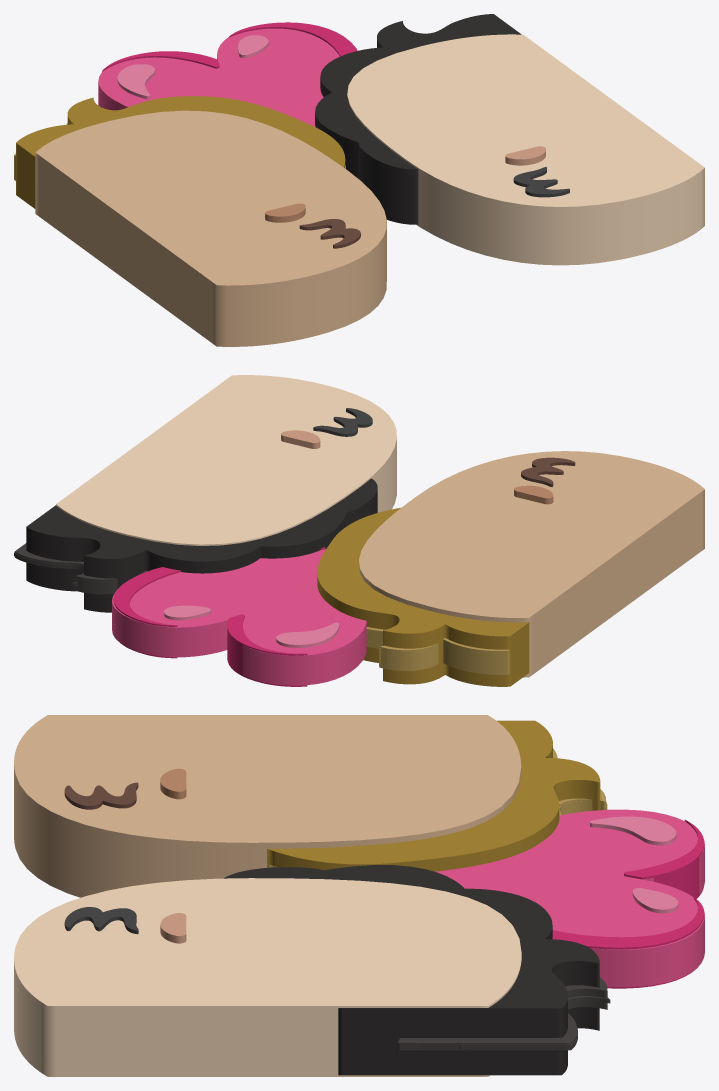
The model's file is emoji_u1f9d1_1f3fc_200d_2764_200d_1f48b_200d_1f9d1_1f3fb.glb.
3 views of the same model, one above another, from view 1: azimuth 30°, elevation 25°; view 2: azimuth 150°, elevation 25°; view 3: azimuth 270°, elevation 25° (orthographic). The views are drawn at different scales.
Visible parts, largest first — view 1: emoji_u1f9d1_1f3fc_200d_2764_200d_1f48b_200d_1f9d1_1f3fb; view 2: emoji_u1f9d1_1f3fc_200d_2764_200d_1f48b_200d_1f9d1_1f3fb; view 3: emoji_u1f9d1_1f3fc_200d_2764_200d_1f48b_200d_1f9d1_1f3fb.
Part boxes in pixels (bbox=[...]): emoji_u1f9d1_1f3fc_200d_2764_200d_1f48b_200d_1f9d1_1f3fb: bbox=[14, 14, 704, 346]; emoji_u1f9d1_1f3fc_200d_2764_200d_1f48b_200d_1f9d1_1f3fb: bbox=[14, 375, 704, 686]; emoji_u1f9d1_1f3fc_200d_2764_200d_1f48b_200d_1f9d1_1f3fb: bbox=[14, 715, 704, 1076].
Bounding box in the file's own units: 0.0339 × 0.0048 × 0.0336.
